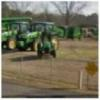tractors: (19, 22, 62, 58), (2, 24, 32, 52)
